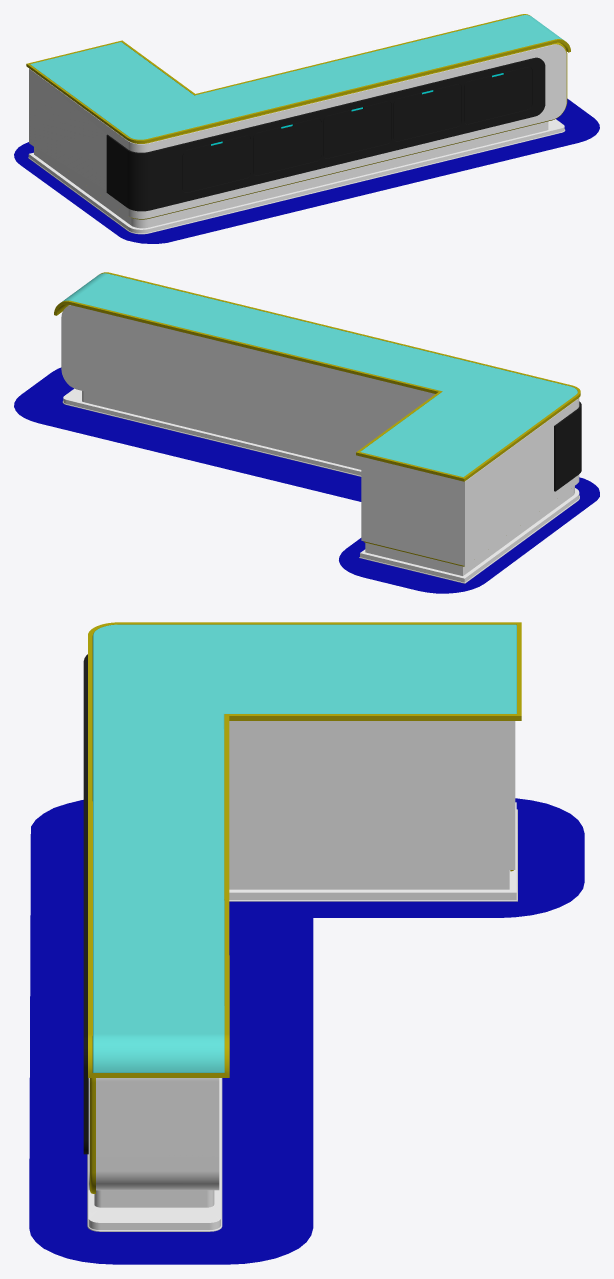
File: KitchenBar_Mesh.fbx
The picture shows the model from 3 angles, top to bottom: view 1: azimuth 30°, elevation 25°; view 2: azimuth 150°, elevation 25°; view 3: azimuth 270°, elevation 25°; orthographic projection. The views are drawn at different scales.
Visible parts, largest first — view 1: KitchenBar_Mesh; view 2: KitchenBar_Mesh; view 3: KitchenBar_Mesh.
Part boxes in pixels (x1=…): KitchenBar_Mesh: x1=14, y1=14, x2=599, y2=243; KitchenBar_Mesh: x1=14, y1=272, x2=599, y2=593; KitchenBar_Mesh: x1=29, y1=622, x2=584, y2=1264.
Bounding box in the file's own units: 556 × 104 × 279.
